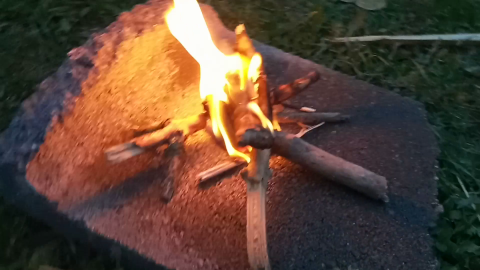fire: (164, 1, 280, 149)
